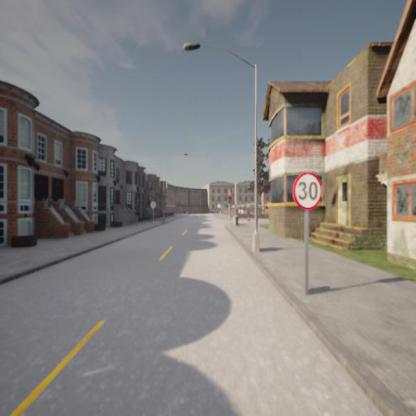traffic_light_red: (227, 192, 231, 203)
traffic_sign_30: (294, 172, 323, 210)
